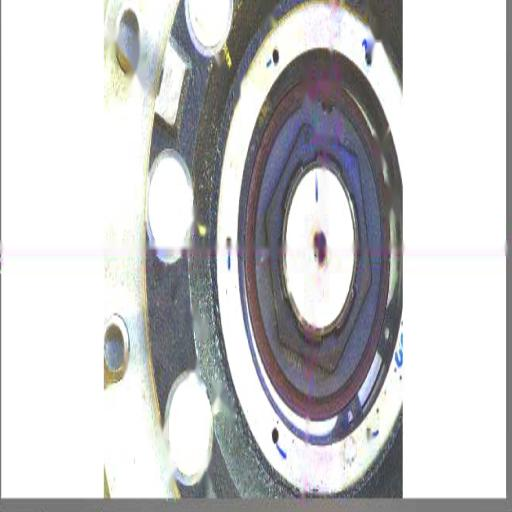center: (309, 231, 330, 269)
notch: (319, 96, 336, 122)
